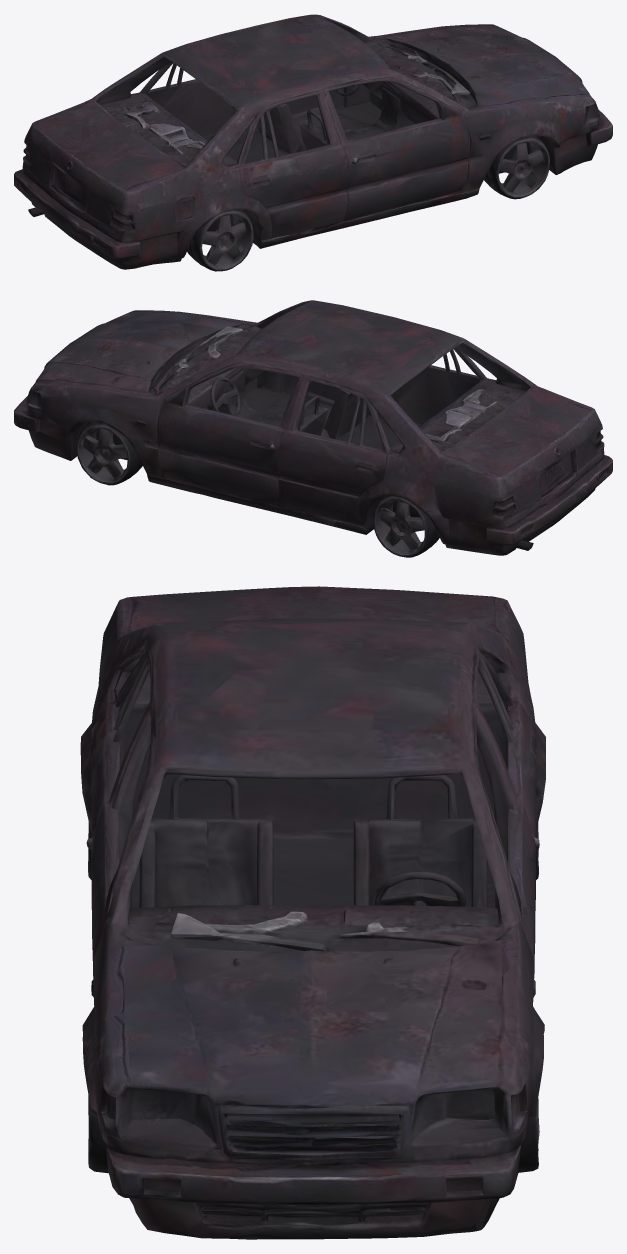
Rendered from car_wreck_razobrannaya_idle.glb.
The picture shows the model from 3 angles, top to bottom: view 1: azimuth 30°, elevation 25°; view 2: azimuth 150°, elevation 25°; view 3: azimuth 270°, elevation 25°; orthographic projection. The views are drawn at different scales.
Parts seen in each view (by area): view 1: tripo_node_71e2d7ae-cb1c-41c6-80de-5e856525d6ea; view 2: tripo_node_71e2d7ae-cb1c-41c6-80de-5e856525d6ea; view 3: tripo_node_71e2d7ae-cb1c-41c6-80de-5e856525d6ea.
Boxes of the visible parts, x1=… form: tripo_node_71e2d7ae-cb1c-41c6-80de-5e856525d6ea: x1=14, y1=14, x2=612, y2=271; tripo_node_71e2d7ae-cb1c-41c6-80de-5e856525d6ea: x1=14, y1=300, x2=612, y2=557; tripo_node_71e2d7ae-cb1c-41c6-80de-5e856525d6ea: x1=80, y1=586, x2=545, y2=1239.
Bounding box in the file's own units: 4.5 × 1.27 × 1.76.
Materials: 1 (1 with a texture image).
